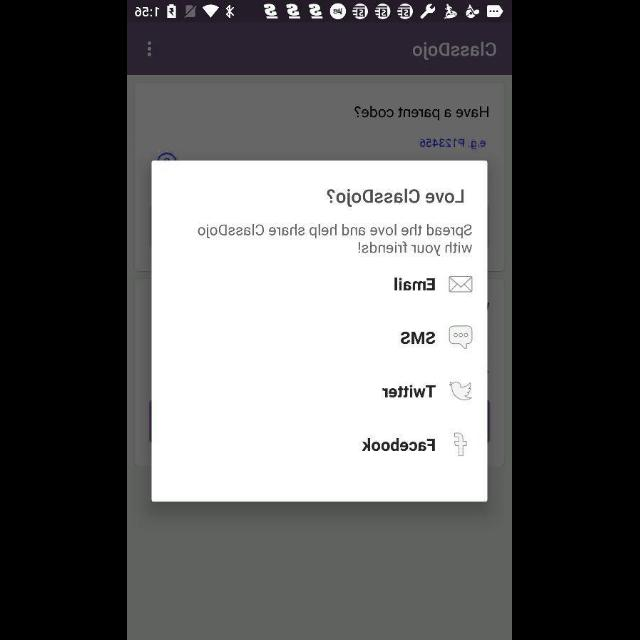icon: (450, 325, 472, 349), (450, 382, 472, 401), (450, 276, 472, 292), (455, 432, 467, 456), (148, 42, 152, 58)
panel: (153, 161, 487, 501)
text: (198, 224, 472, 256), (328, 190, 464, 207), (355, 106, 489, 122), (413, 42, 497, 62), (362, 438, 436, 452), (420, 139, 486, 149), (383, 386, 437, 398), (394, 278, 436, 290), (401, 332, 435, 344)
uppertaskbar: (128, 1, 512, 23)
